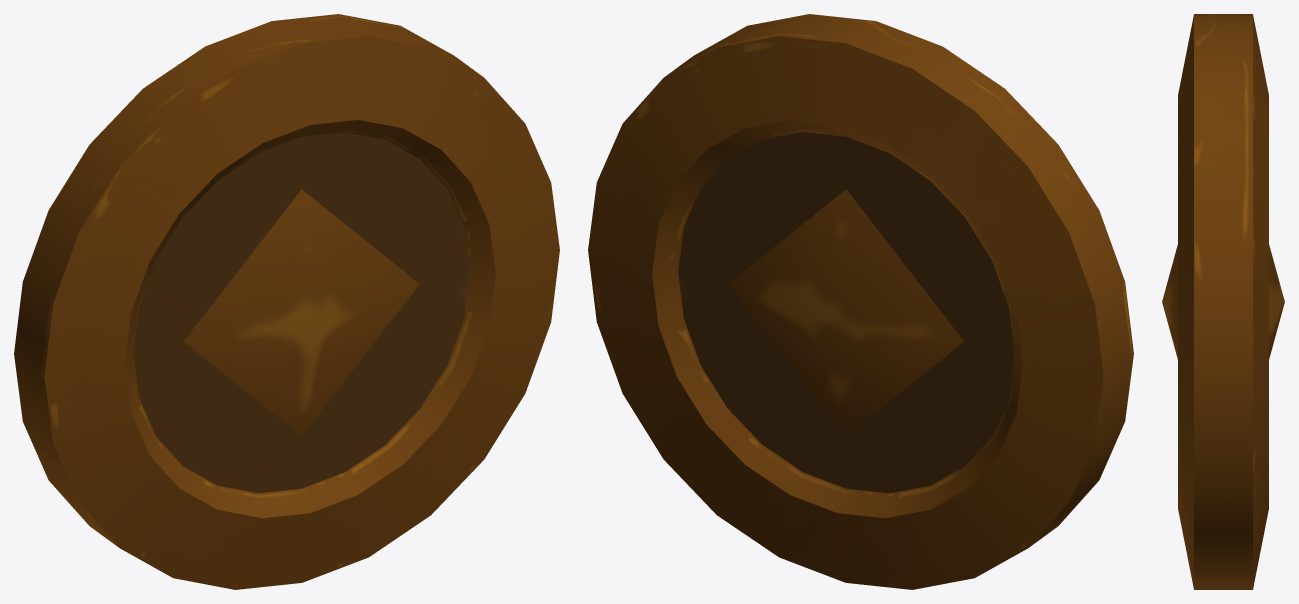
Rendered from coin.gltf.
The picture shows the model from 3 angles, left to right: view 1: azimuth 30°, elevation 25°; view 2: azimuth 150°, elevation 25°; view 3: azimuth 270°, elevation 25°; orthographic projection. The views are drawn at different scales.
Visible parts, largest first — view 1: Coin; view 2: Coin; view 3: Coin.
Part boxes in pixels (x1,y1,x2,y2): Coin: (14, 14, 559, 589); Coin: (588, 14, 1133, 589); Coin: (1162, 14, 1284, 589).
Bounding box in the file's own units: 0.0683 × 0.0683 × 0.0145.
1 material, 1 textured.
